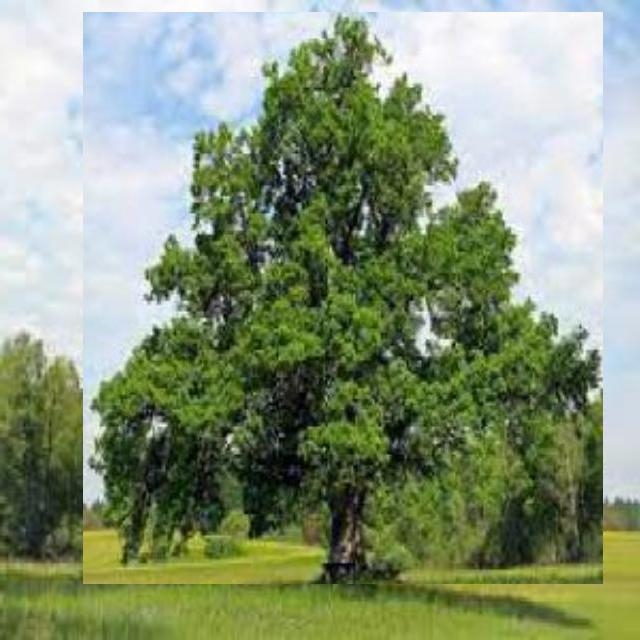tree: (83, 12, 603, 584)
